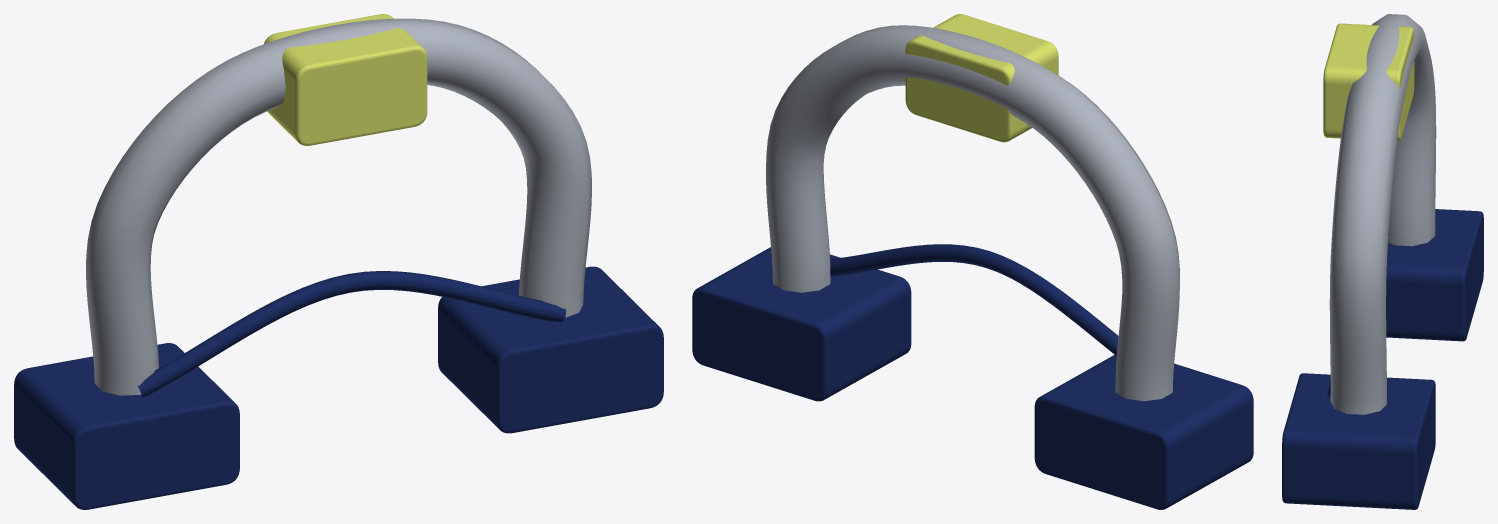
The picture shows the model from 3 angles, left to right: view 1: azimuth 30°, elevation 25°; view 2: azimuth 150°, elevation 25°; view 3: azimuth 270°, elevation 25°; orthographic projection. The views are drawn at different scales.
Parts seen in each view (by area): view 1: machined plate (×3), architecture connecting arch, source to value bridge; view 2: machined plate (×3), architecture connecting arch, source to value bridge; view 3: machined plate (×3), architecture connecting arch.
Boxes of the visible parts, x1,y1,x2,y2 form: machined plate (×3): [14, 14, 663, 509]; architecture connecting arch: [86, 18, 591, 395]; source to value bridge: [137, 271, 566, 397]; machined plate (×3): [692, 14, 1253, 509]; architecture connecting arch: [766, 25, 1179, 401]; source to value bridge: [830, 244, 1118, 355]; machined plate (×3): [1282, 23, 1483, 509]; architecture connecting arch: [1329, 14, 1436, 414].
Bounding box in the file's own units: 2.42 × 1.63 × 0.854.
